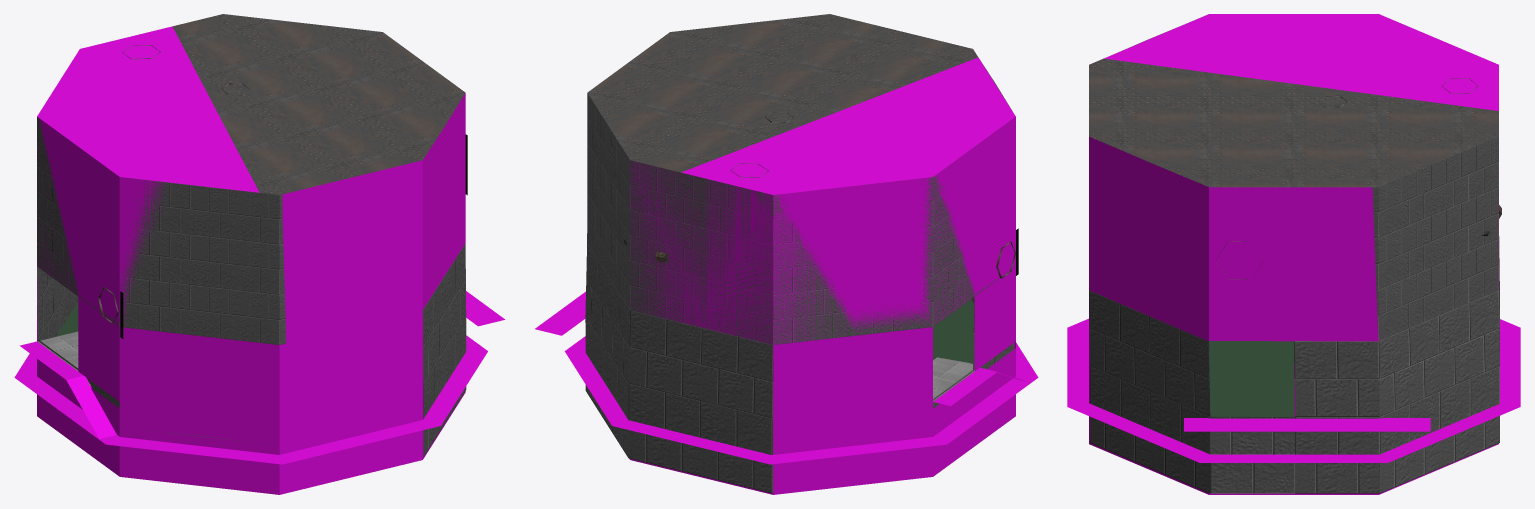
File: mint_paint_room.fbx
3 renders of one model, left to right at view 1: azimuth 30°, elevation 25°; view 2: azimuth 150°, elevation 25°; view 3: azimuth 270°, elevation 25°, orthographic. The views are drawn at different scales.
Visible parts, largest first — view 1: wall (×2), ceiling (×2), floor (×2), stairs, stairs27; view 2: wall (×2), ceiling (×2), floor (×2), paint, stairs27, stairs; view 3: wall (×2), ceiling (×2), floor, paint, stairs27.
Boxes of the visible parts, bbox=[...] form: wall (×2): bbox=[37, 14, 466, 494]; ceiling (×2): bbox=[37, 14, 465, 194]; floor (×2): bbox=[14, 331, 487, 464]; stairs: bbox=[20, 341, 116, 438]; stairs27: bbox=[466, 291, 504, 326]; wall (×2): bbox=[585, 14, 1015, 494]; ceiling (×2): bbox=[587, 14, 1015, 194]; floor (×2): bbox=[564, 336, 1038, 464]; paint: bbox=[933, 299, 974, 363]; stairs27: bbox=[535, 291, 585, 335]; stairs: bbox=[933, 367, 1027, 406]; wall (×2): bbox=[1089, 14, 1499, 494]; ceiling (×2): bbox=[1089, 14, 1498, 187]; floor: bbox=[1067, 318, 1520, 462]; paint: bbox=[1121, 341, 1293, 427]; stairs27: bbox=[1184, 418, 1430, 431].
Bounding box in the file's own units: 82.06 × 60.25 × 80.09.
